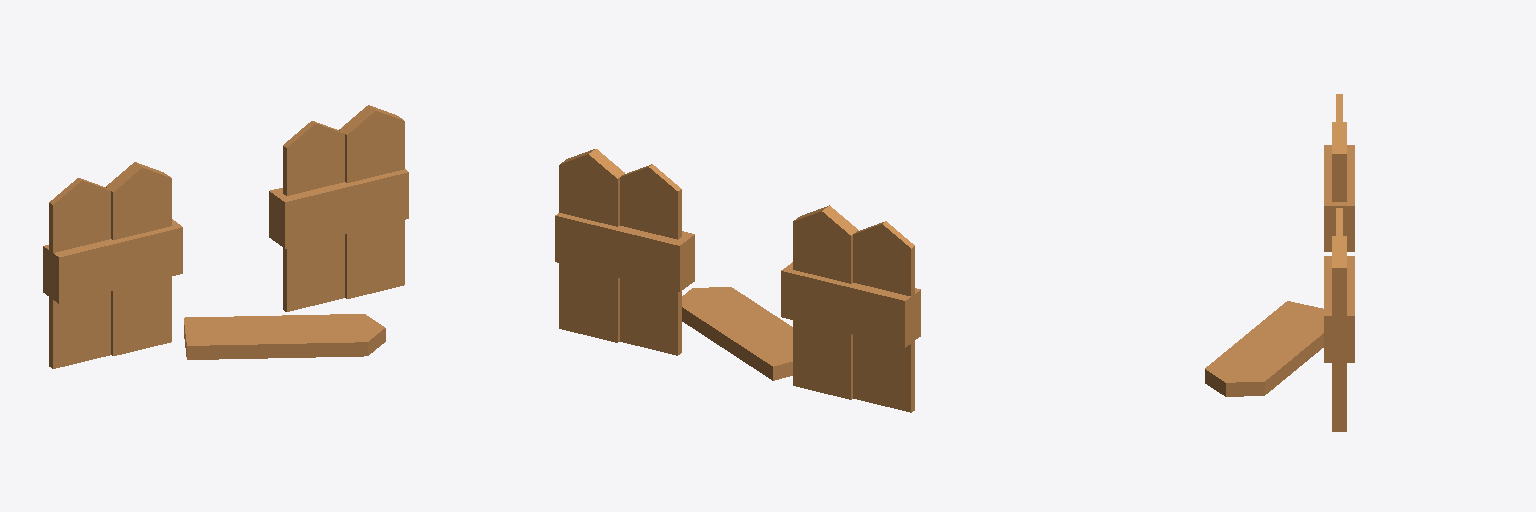
Rendered from fenceBroken.obj.
3 views of the same model, side by side, from view 1: azimuth 30°, elevation 25°; view 2: azimuth 150°, elevation 25°; view 3: azimuth 270°, elevation 25° (orthographic).
Parts seen in each view (by area): view 1: fenceBroken; view 2: fenceBroken; view 3: fenceBroken.
Part boxes in pixels (bbox=[...]): fenceBroken: bbox=[43, 105, 408, 368]; fenceBroken: bbox=[555, 149, 920, 412]; fenceBroken: bbox=[1205, 94, 1354, 431].
Bounding box in the file's own units: 1 × 0.4961 × 0.3729.